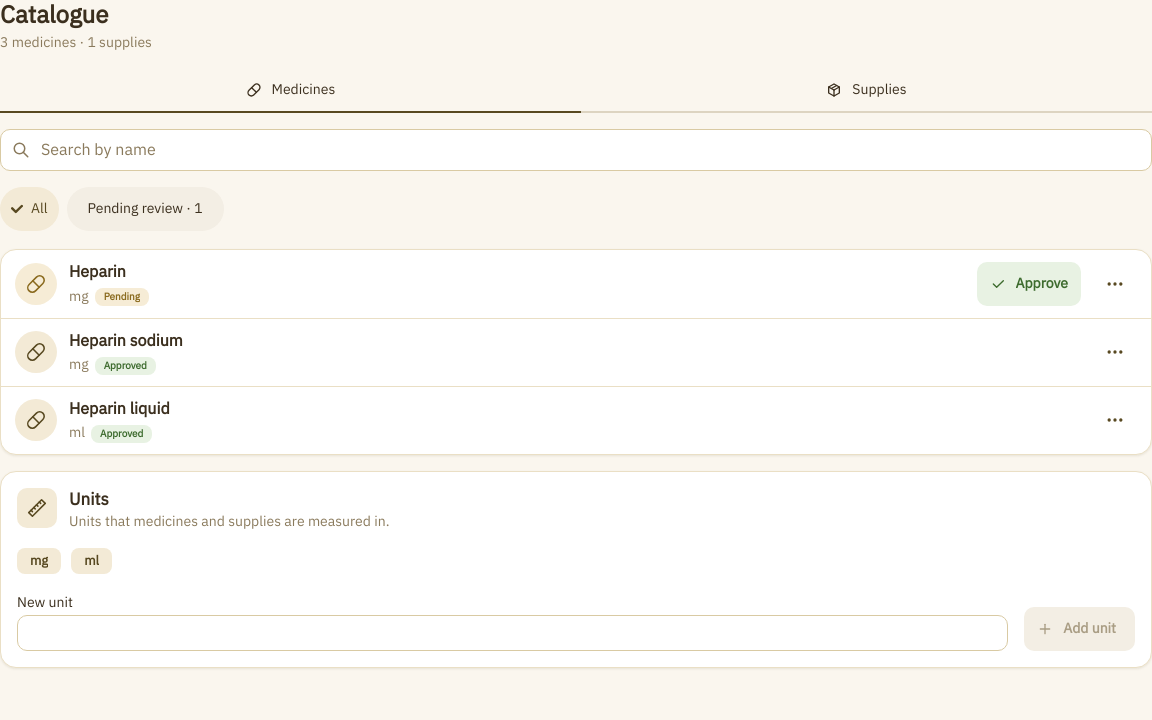
Scenario: catalog merge dialog › lists only same-type same-unit items, excluding itself and retired ones
The image size is (1152, 720).
Click the button named "More for Heparin" at (1115, 284), box x1=1093 y1=262 x2=1137 y2=306
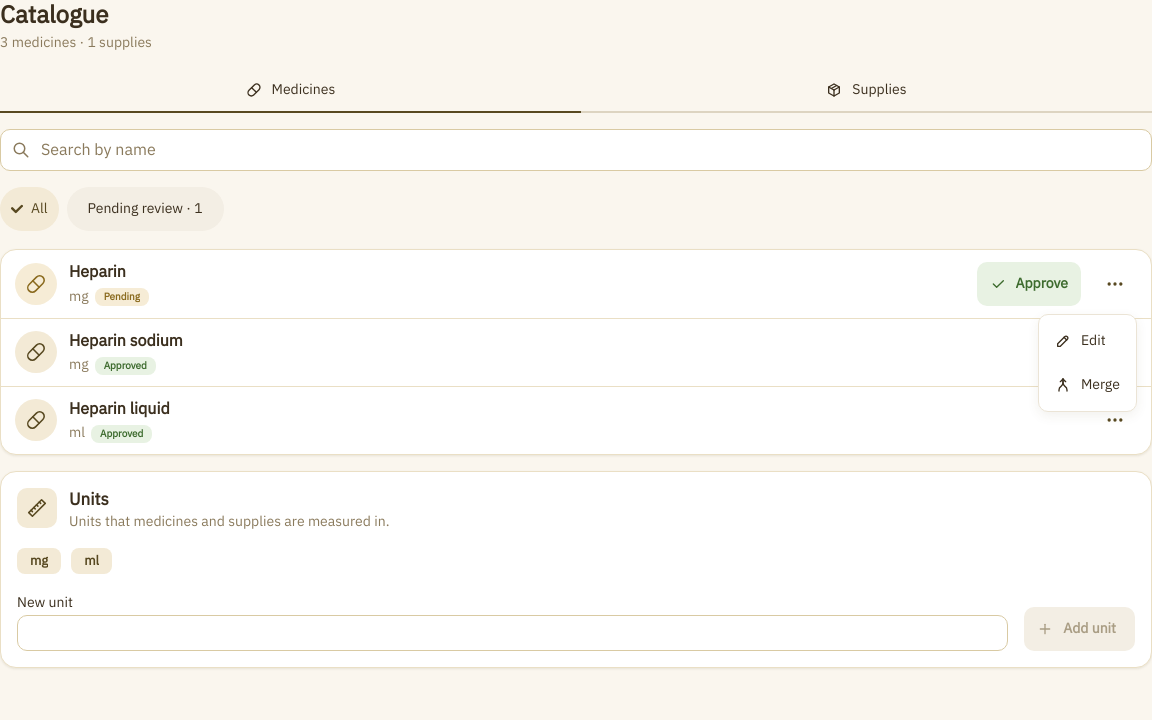
Click the menu item "Merge" at (1088, 385), box x1=1043 y1=363 x2=1132 y2=407
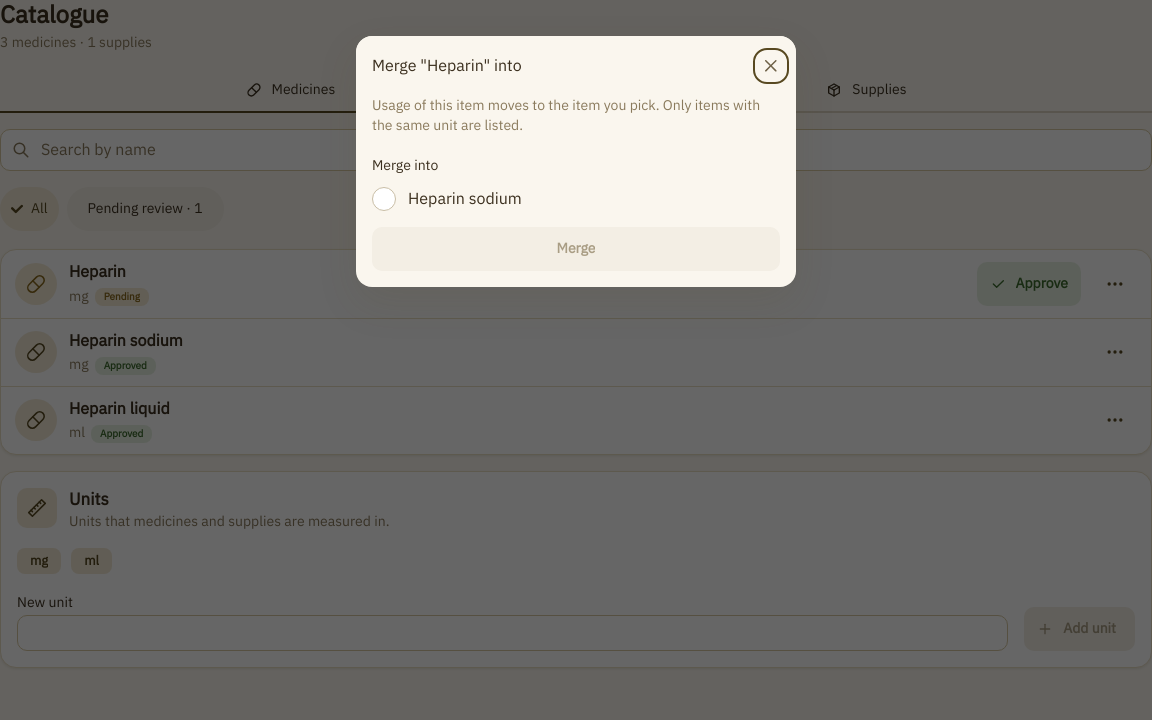
Expected: the text "Heparin sodium" is shown, x1=396 y1=187 x2=522 y2=211
